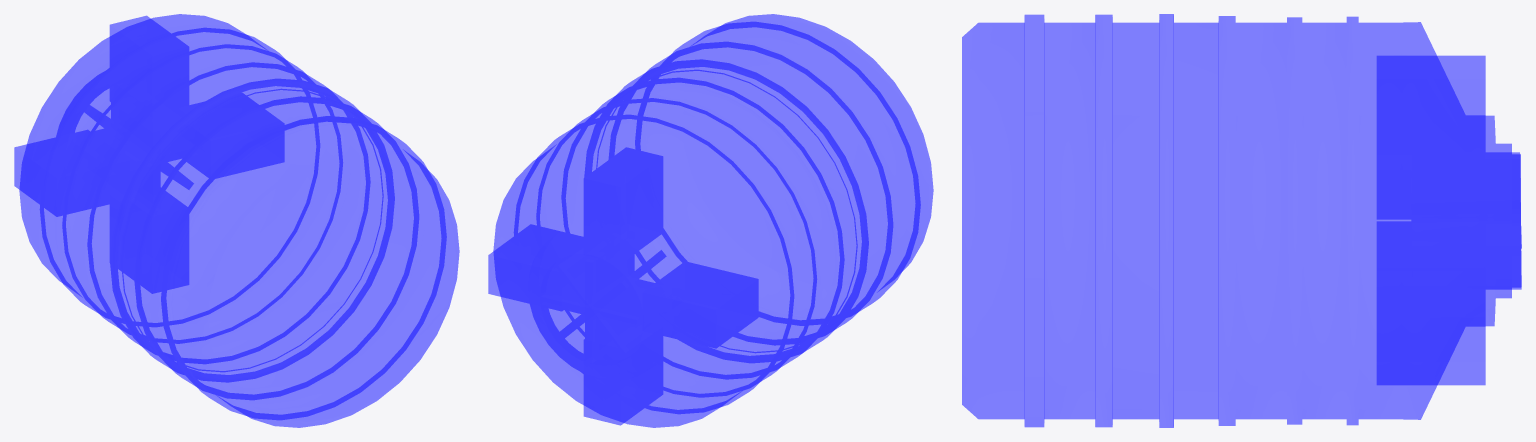
File: AnyConv_PWT.dae
3 views of the same model, side by side, from view 1: azimuth 30°, elevation 25°; view 2: azimuth 150°, elevation 25°; view 3: azimuth 270°, elevation 25° (orthographic). The views are drawn at different scales.
Visible parts, largest first — view 1: Cylinder; view 2: Cylinder; view 3: Cylinder.
Boxes of the visible parts, box(x1,y1,x2,y2) form: Cylinder: box(14, 14, 459, 427); Cylinder: box(488, 14, 933, 427); Cylinder: box(962, 14, 1521, 427).
Bounding box in the file's own units: 1380 × 1864 × 1380.
